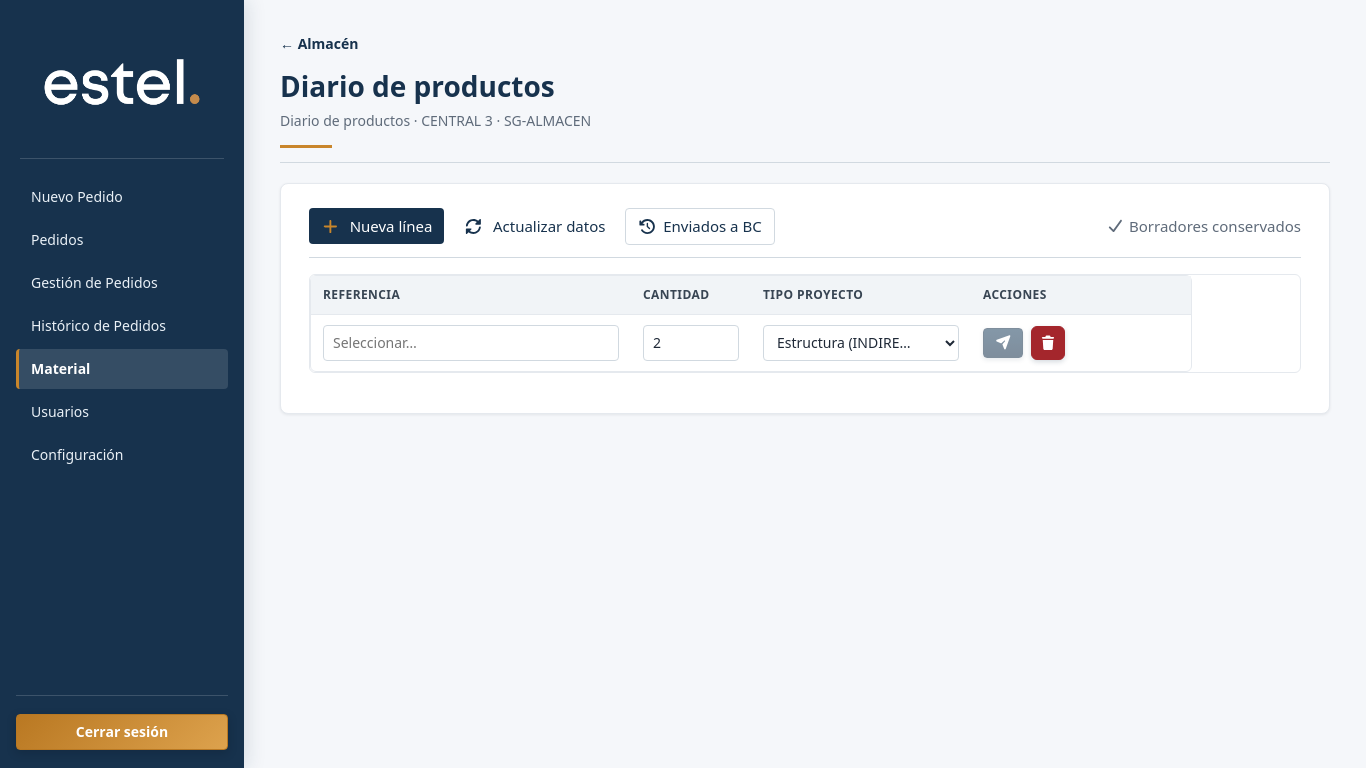
it: el diario busca 20193978 sin descargar todo el catálogo
This screenshot has width=1366, height=768.
Type "20193978" into the dropdown named "Referencia, fila 1". click: (471, 343)
box: [323,325,619,361]
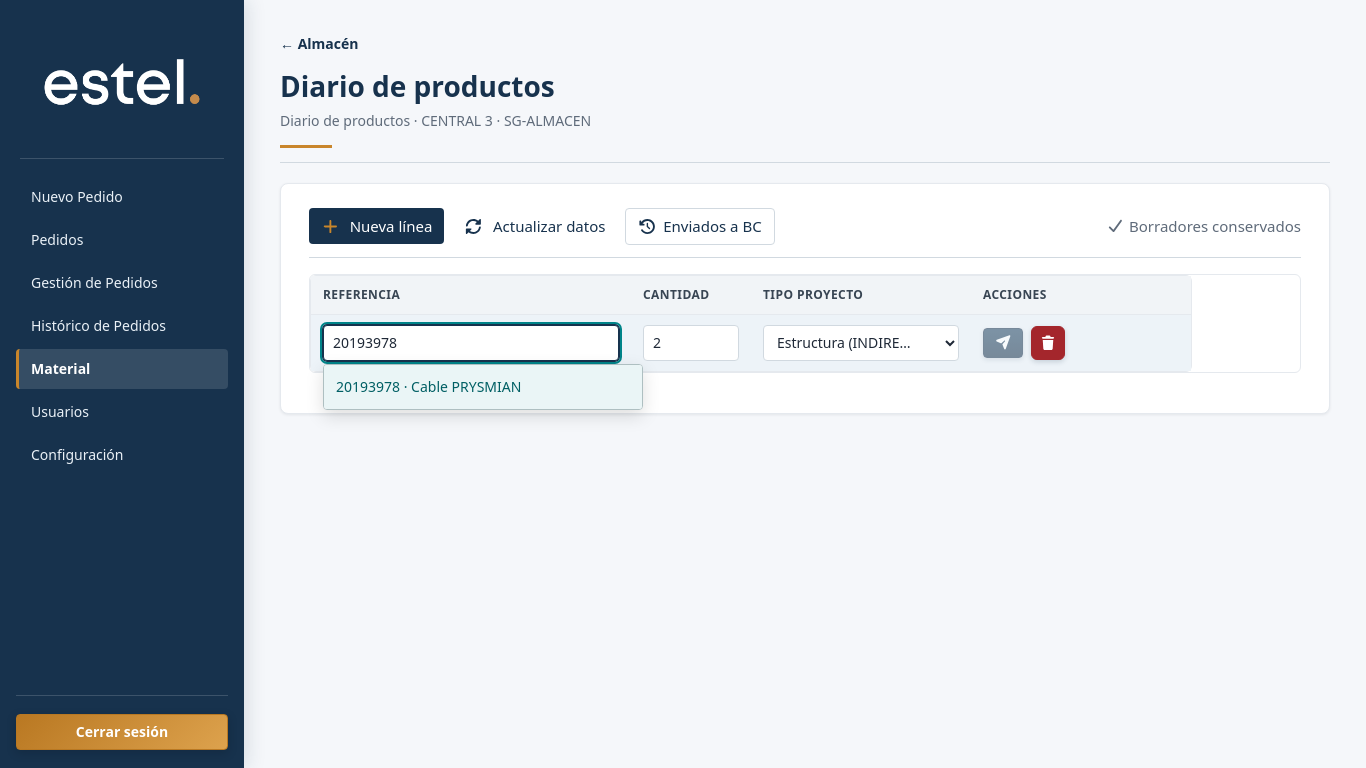
Click the option "20193978 · Cable PRYSMIAN". click: (483, 387)
box: [324,365,642,409]
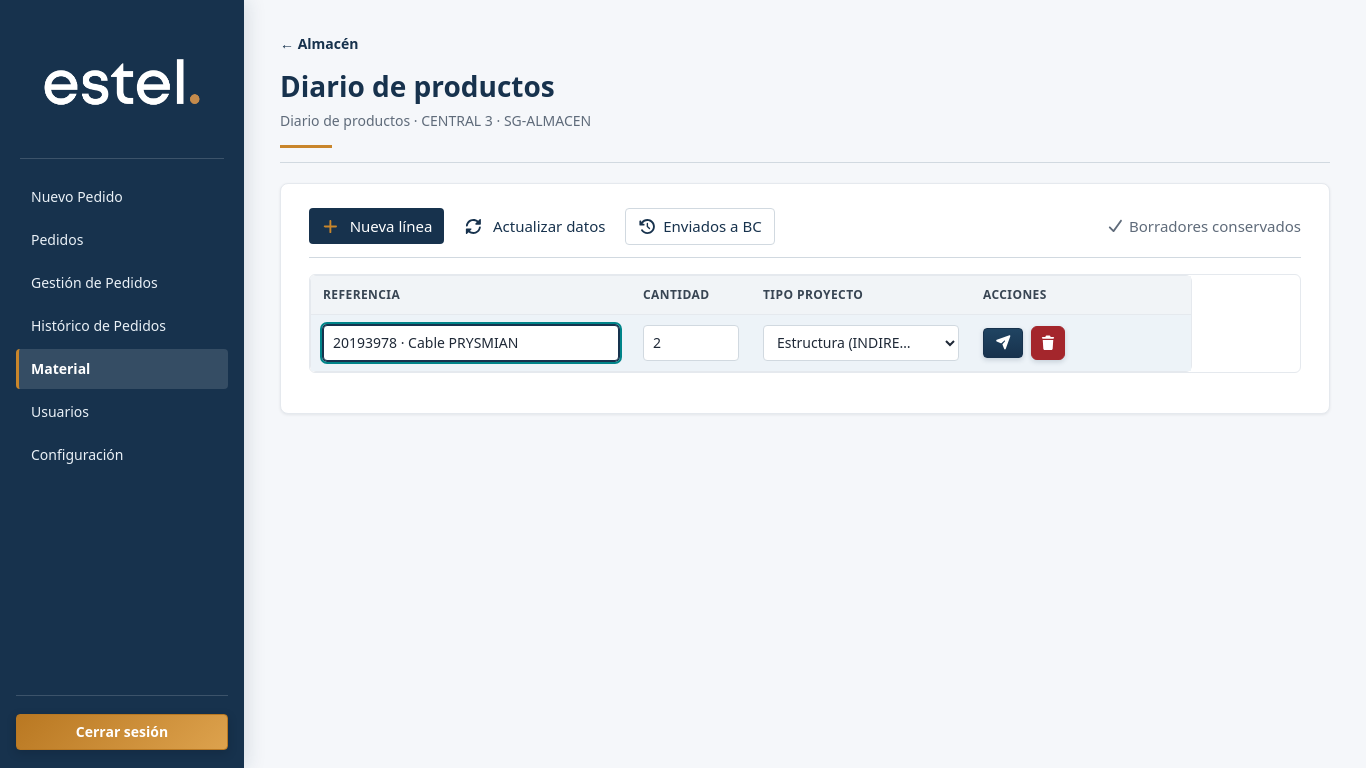
Now the button named "Enviar a BC" is enabled, box [983,328,1023,358]
Now the dropdown named "Referencia, fila 1" holds "20193978 · Cable PRYSMIAN", box [323,325,619,361]
